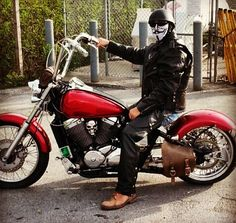helmet: (146, 10, 177, 39)
